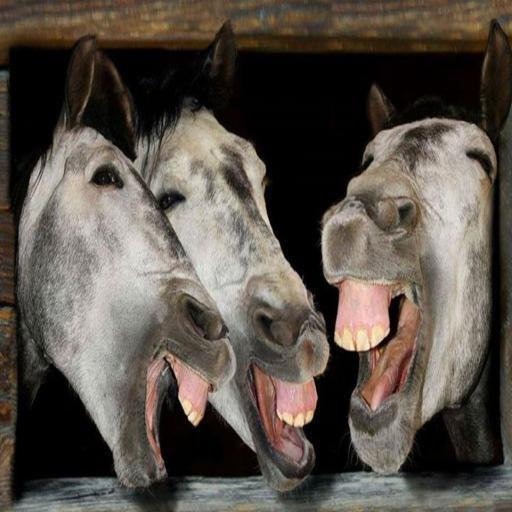horse: (94, 16, 328, 496), (16, 36, 238, 495), (318, 16, 512, 474)
